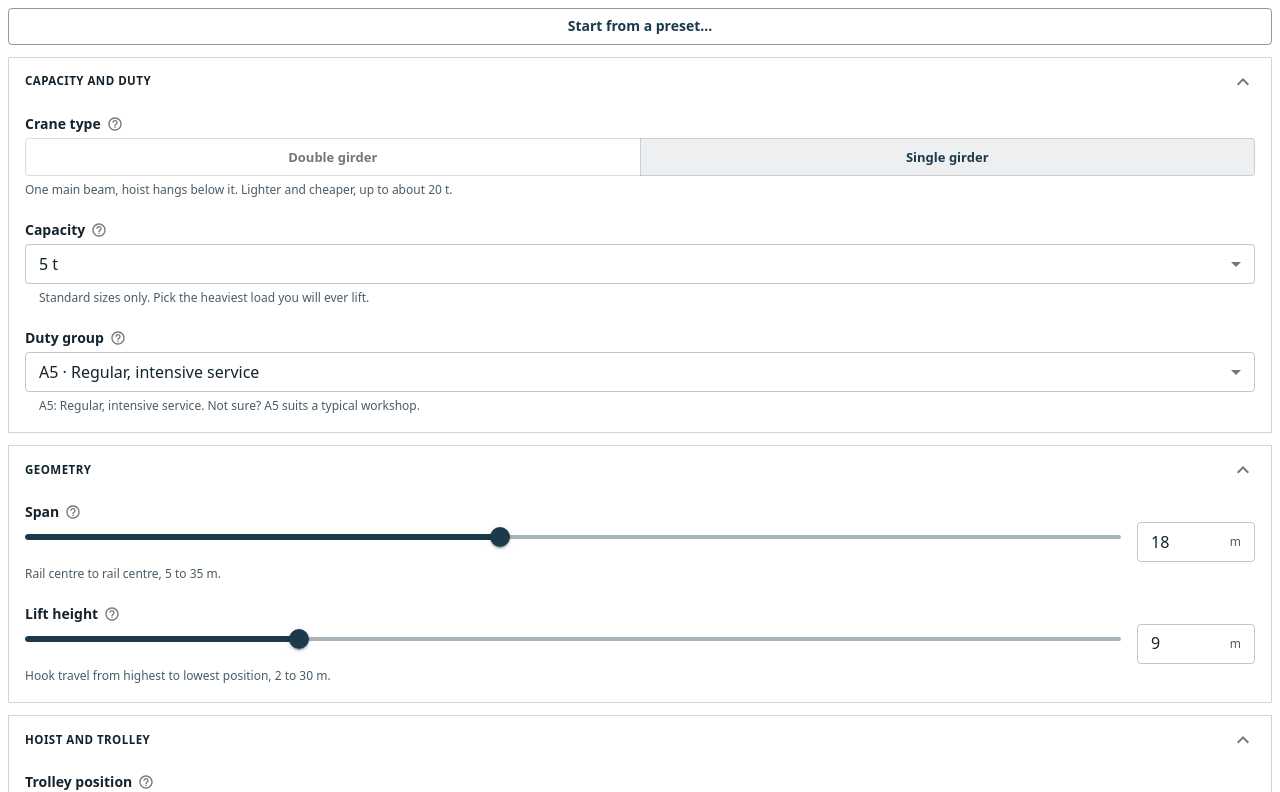
Test: InputsPanel validation display › switching to double girder switches the low-headroom option off and disables it
Click the button "Double girder" at (333,157), box [25, 138, 640, 176]
(page scrolled)
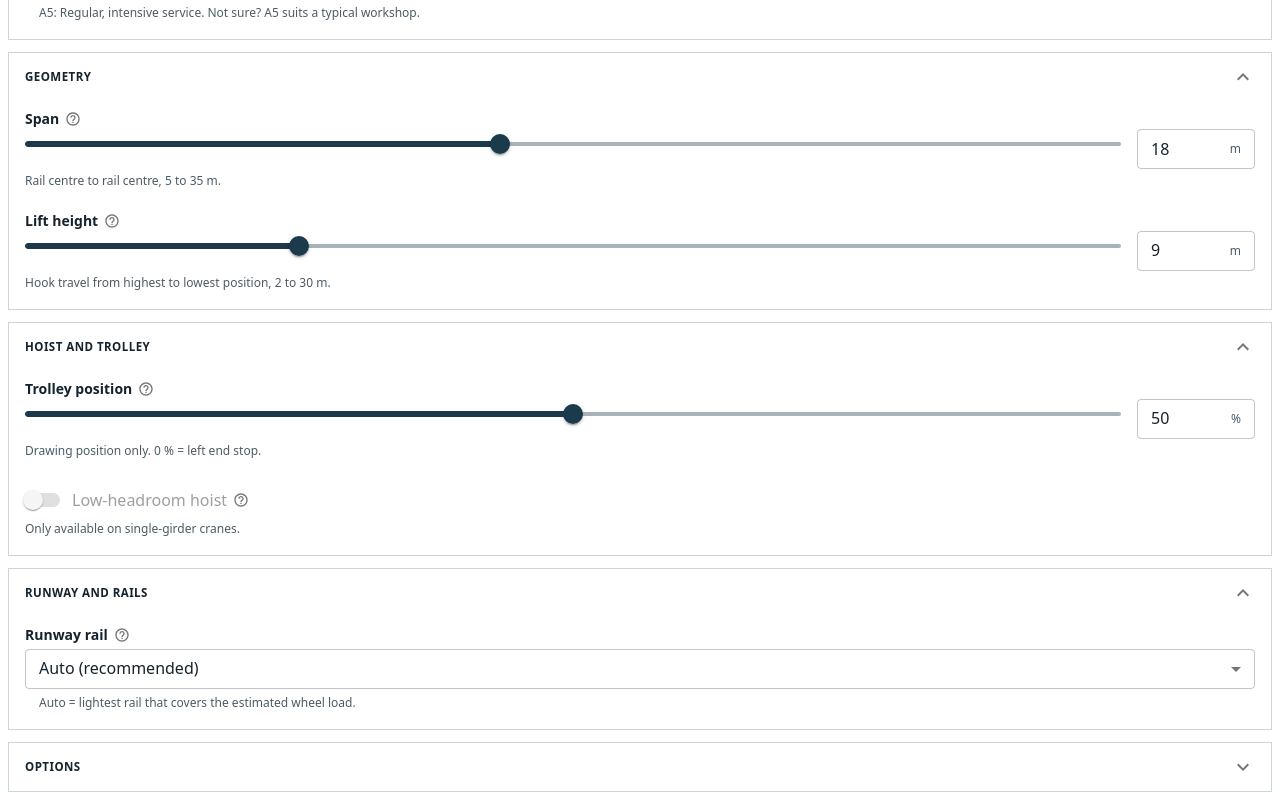
Expected: the checkbox labelled "Low-headroom hoist" is not checked, [23, 489, 251, 511]
Expected: the checkbox labelled "Low-headroom hoist" is disabled, [23, 489, 251, 511]
